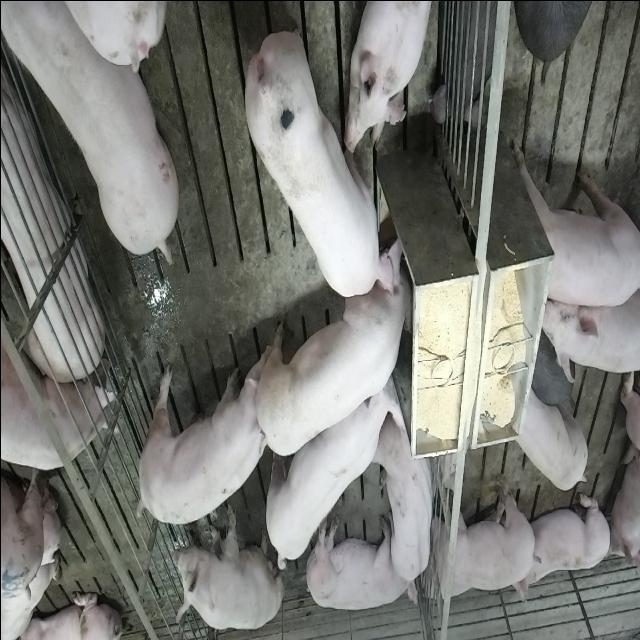Feeding: (242, 24, 401, 302), (249, 257, 412, 463)
Lateral_lying: (0, 41, 102, 386), (302, 512, 418, 612)
Sitting: (170, 505, 285, 632)
Standing: (4, 4, 182, 267), (260, 353, 400, 573), (131, 343, 263, 529), (508, 134, 638, 304), (421, 471, 537, 608), (0, 337, 115, 472), (538, 266, 640, 382), (514, 383, 588, 490)
Sternal_lying: (345, 0, 433, 152), (518, 486, 612, 604), (375, 412, 437, 586)
